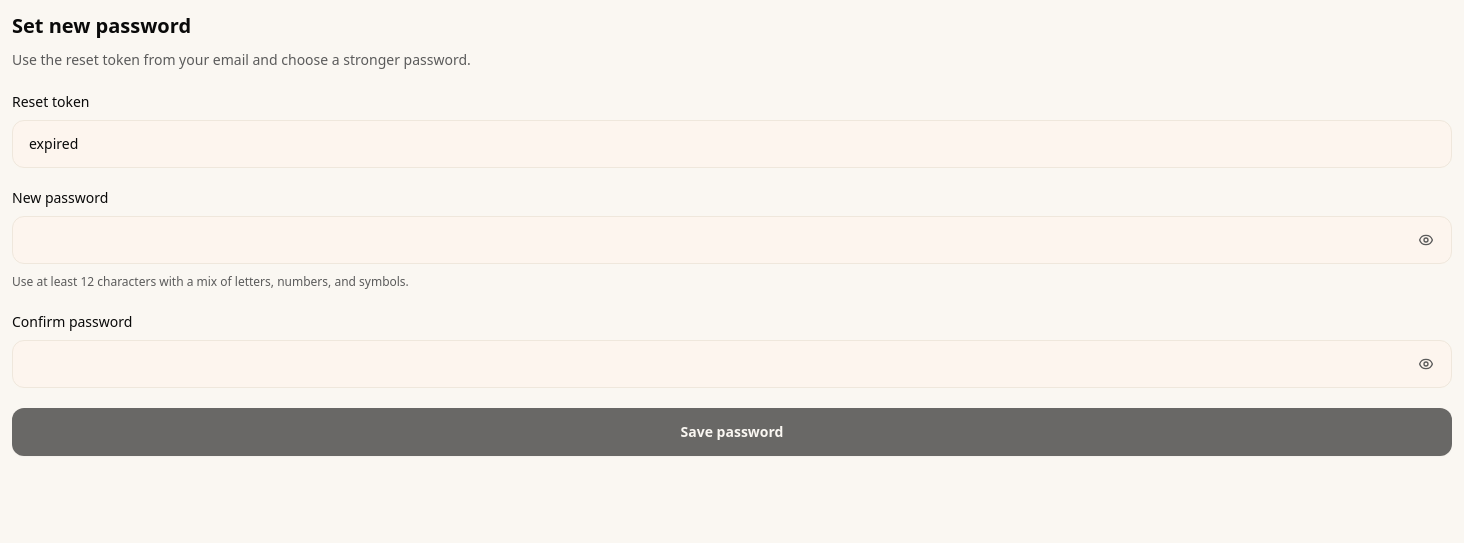
it: ResetPasswordForm › shows the error detail when the token is rejected
Type "StrongerPass!234" into the password field labelled "New password" at (732, 240), box [12,216,1452,264]
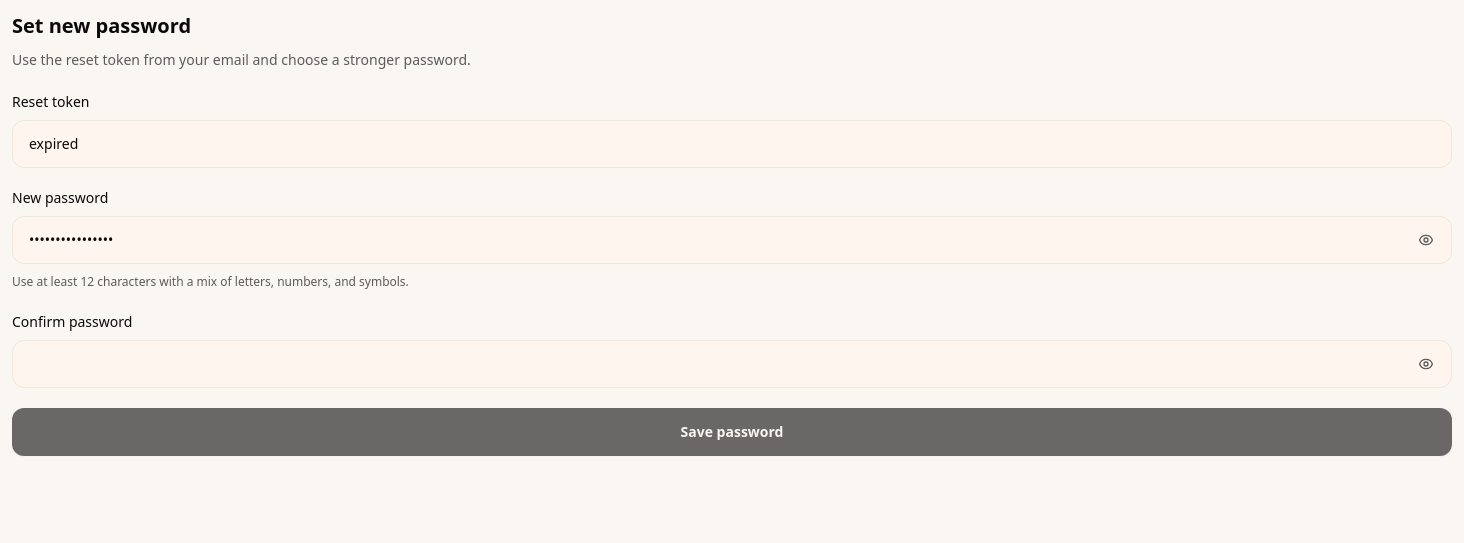
Type "StrongerPass!234" into the password field labelled "Confirm password" at (732, 364), box [12,340,1452,388]
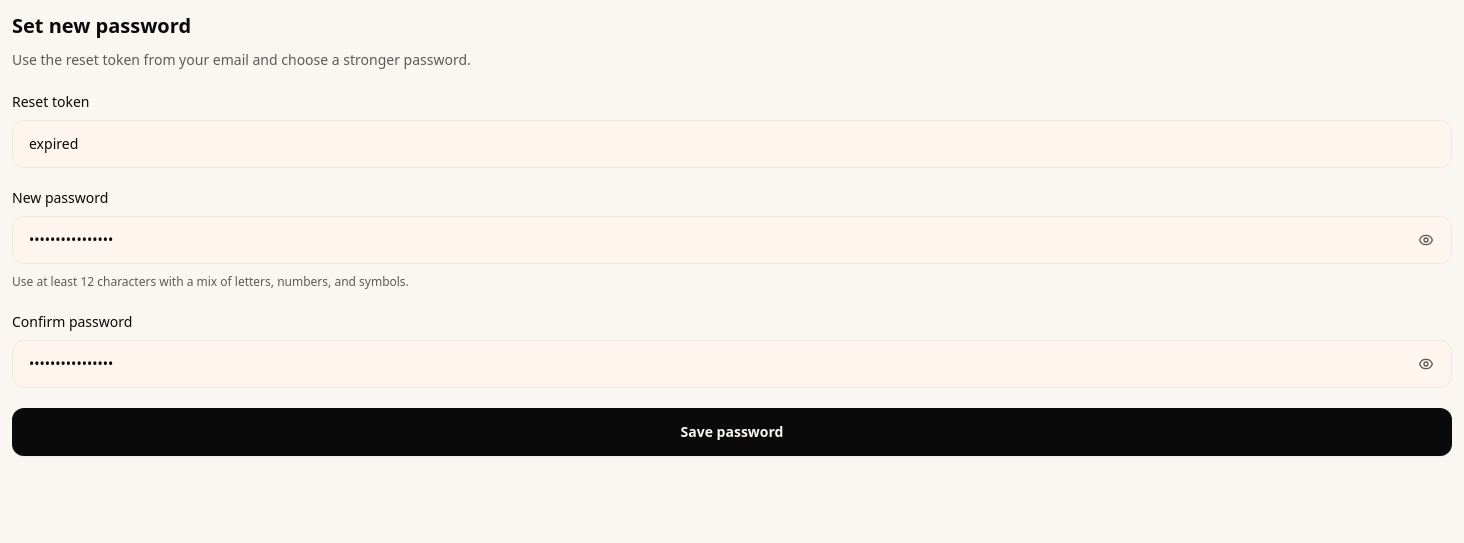
Click the button "Save password" at (732, 432), box [12,408,1452,456]
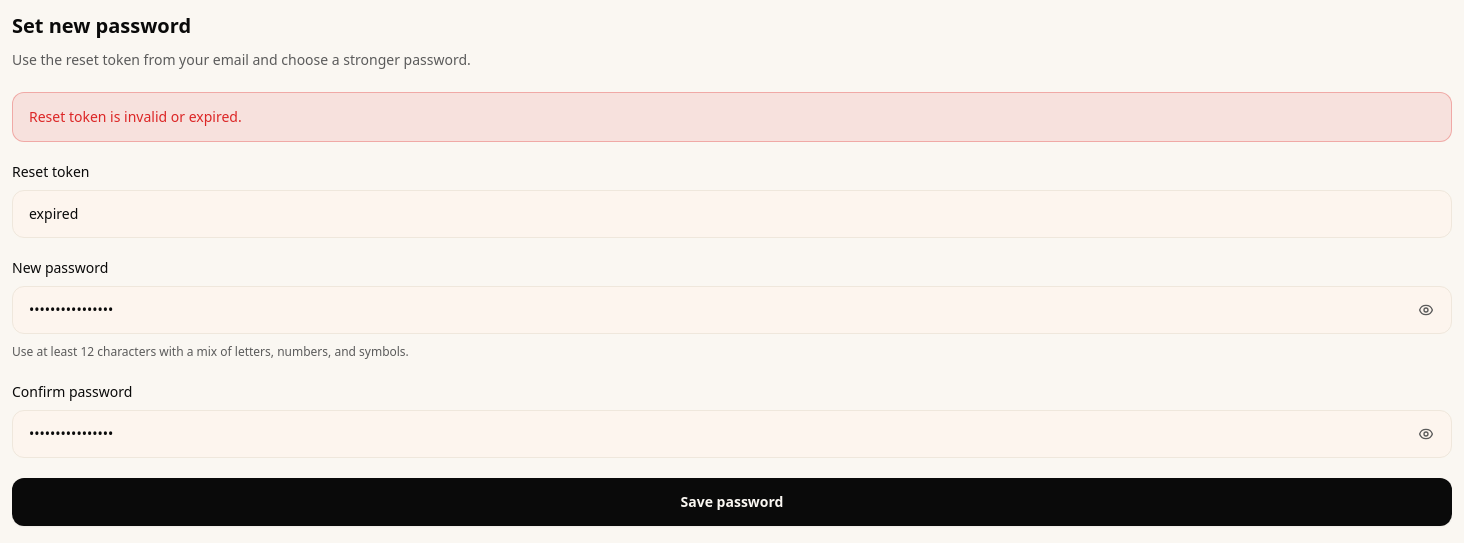
Result: the text "Reset token is invalid or expired." is shown at [12,92,1452,142]
